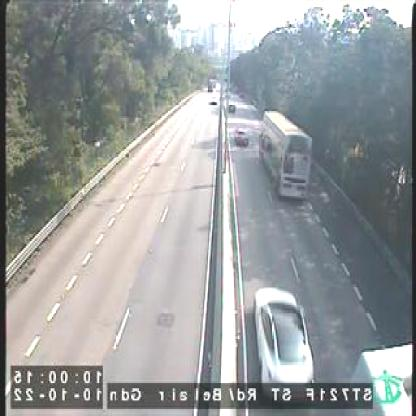Bus: (260, 111, 312, 199)
Car: (253, 286, 313, 390), (235, 128, 248, 148), (225, 100, 234, 112)
